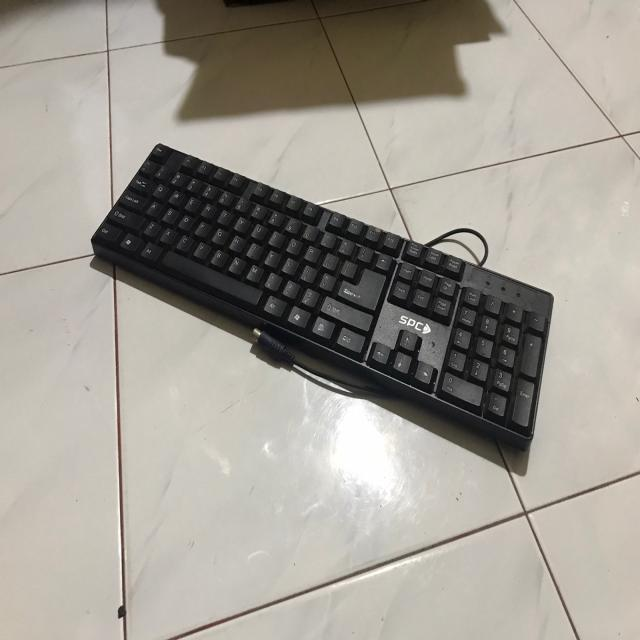-mouse-: (91, 144, 554, 444)
